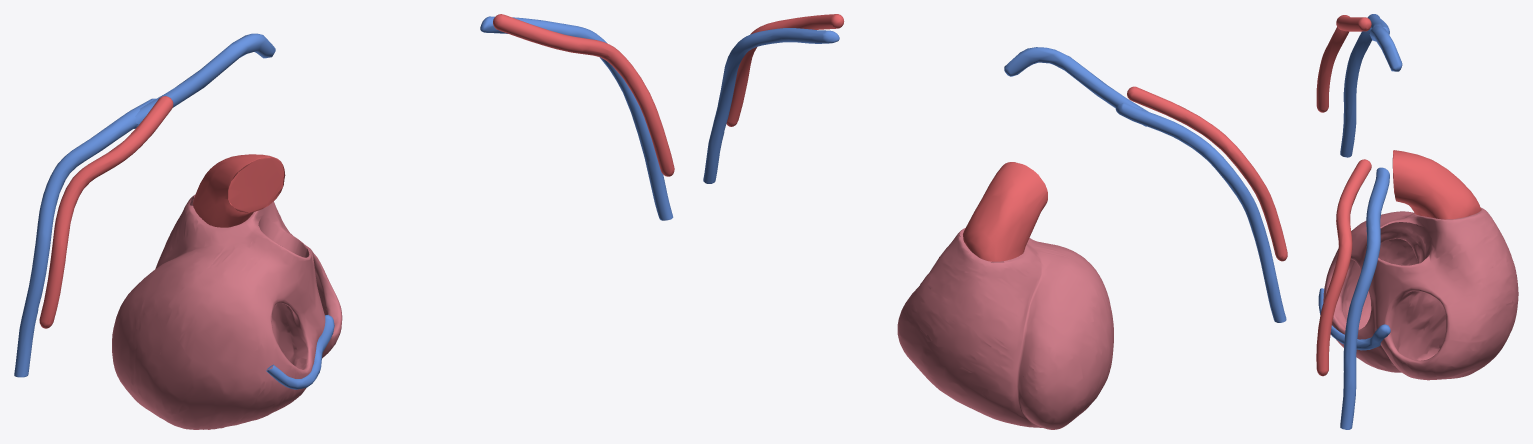
File: additional_circulatory_lod1.glb
The picture shows the model from 3 angles, left to right: view 1: azimuth 30°, elevation 25°; view 2: azimuth 150°, elevation 25°; view 3: azimuth 270°, elevation 25°; orthographic projection. The views are drawn at different scales.
Parts seen in each view (by area): view 1: FJ2428, FJ2966, FJ2217, FJ2216, FJ2268, FJ2269, FJ3486, FJ2655; view 2: FJ2428, FJ2966, FJ2217, FJ2216, FJ2269, FJ3486, FJ2268; view 3: FJ2428, FJ2966, FJ2269, FJ2268, FJ2217, FJ2216, FJ3486, FJ2655.
Part boxes in pixels (<box>): FJ2428: <box>112,194,342,429</box>; FJ2966: <box>193,154,285,227</box>; FJ2217: <box>14,98,155,377</box>; FJ2216: <box>39,96,173,328</box>; FJ2268: <box>493,14,674,176</box>; FJ2269: <box>480,16,673,220</box>; FJ3486: <box>134,33,275,128</box>; FJ2655: <box>266,314,334,389</box>; FJ2428: <box>897,228,1113,429</box>; FJ2966: <box>963,162,1047,261</box>; FJ2217: <box>1115,103,1286,322</box>; FJ2216: <box>1127,86,1287,261</box>; FJ2269: <box>703,28,839,183</box>; FJ3486: <box>1004,47,1148,126</box>; FJ2268: <box>726,14,844,126</box>; FJ2428: <box>1323,207,1518,380</box>; FJ2966: <box>1392,150,1480,219</box>; FJ2269: <box>1340,167,1389,429</box>; FJ2268: <box>1316,159,1371,376</box>; FJ2217: <box>1340,14,1389,157</box>; FJ2216: <box>1316,15,1371,112</box>; FJ3486: <box>1369,23,1402,71</box>; FJ2655: <box>1318,288,1390,350</box>.
Size of the model in its own units: 31.43 by 17.94 by 9.66.
